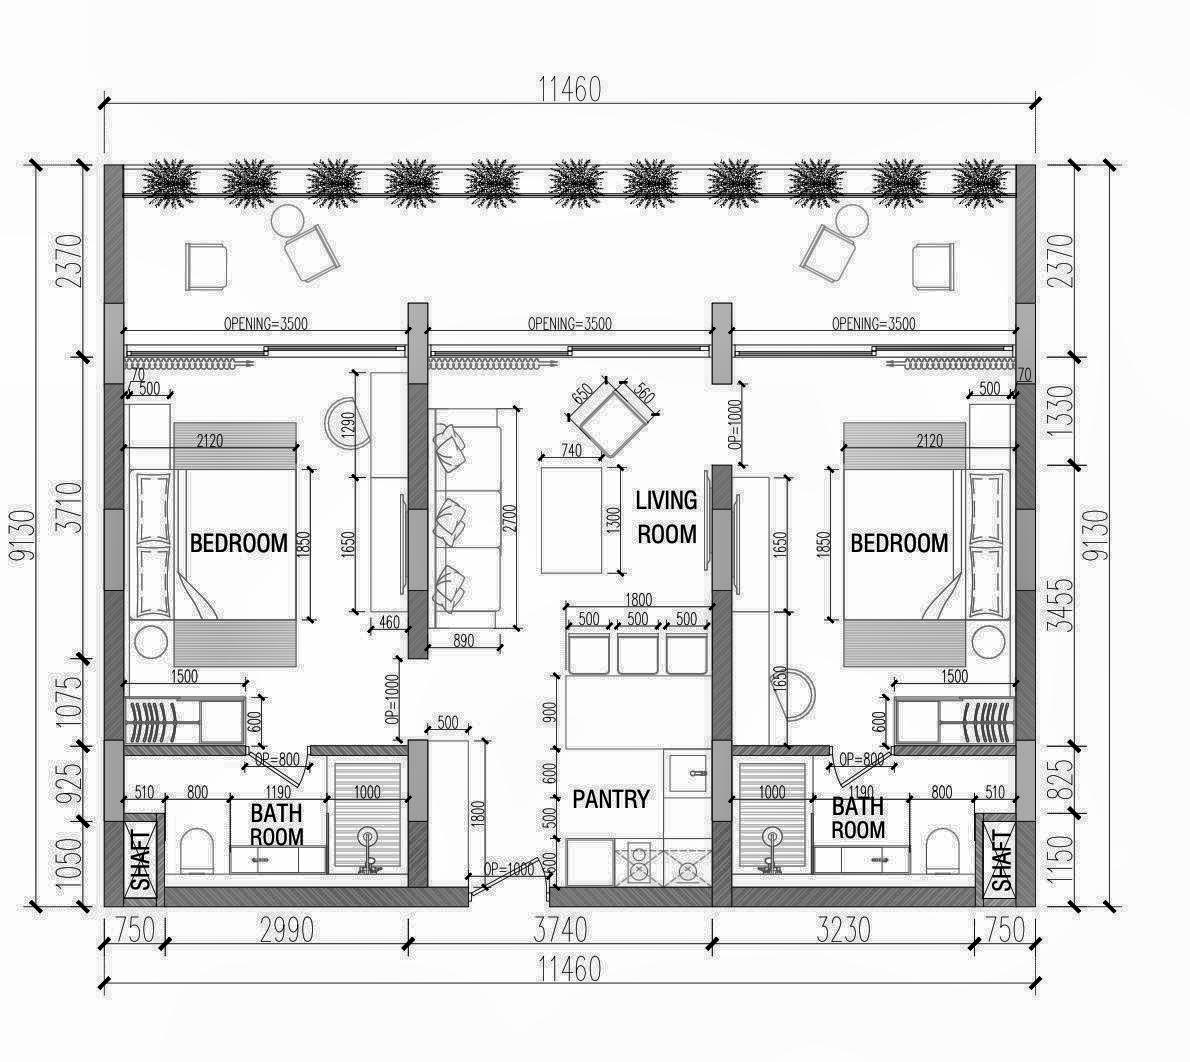door: (467, 851, 556, 911), (242, 741, 316, 787), (828, 742, 890, 790)
window: (425, 337, 715, 373), (122, 335, 409, 366), (733, 341, 1016, 365)
